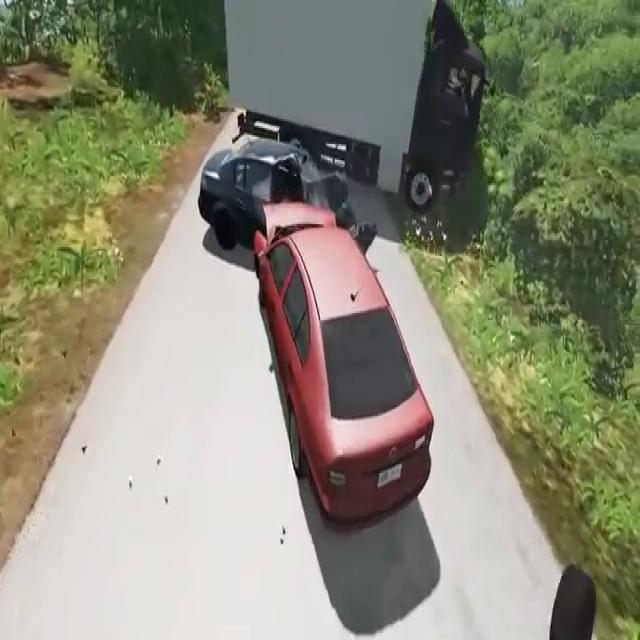moderate: (193, 126, 440, 527)
